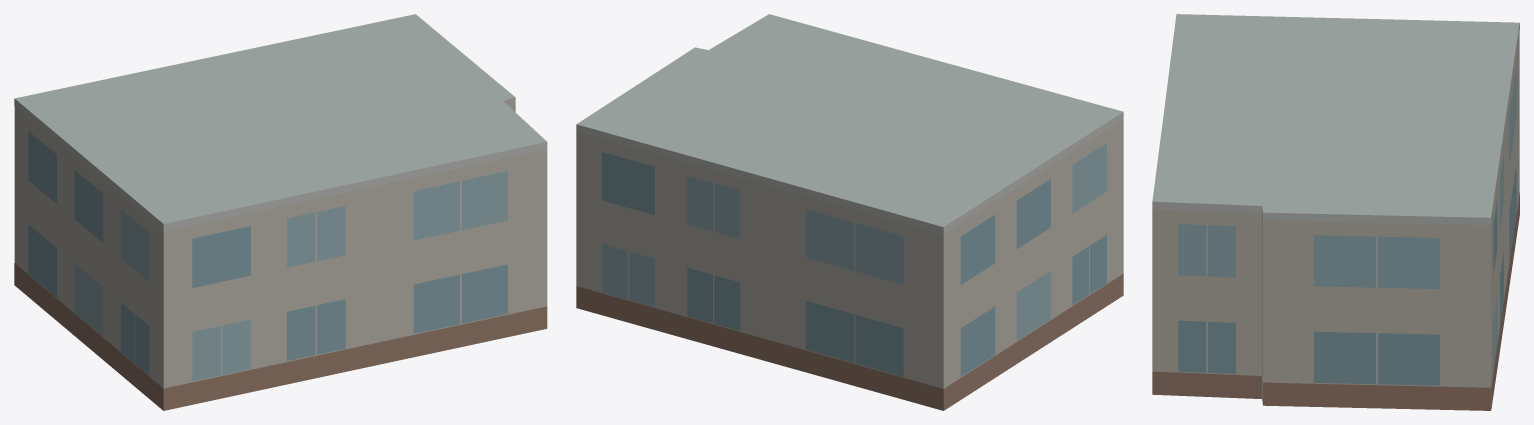
Rendered from survey-upis-32712469.glb.
The picture shows the model from 3 angles, left to right: view 1: azimuth 30°, elevation 25°; view 2: azimuth 150°, elevation 25°; view 3: azimuth 270°, elevation 25°; orthographic projection. The views are drawn at different scales.
Parts seen in each view (by area): view 1: survey-upis-32712469.tmp; view 2: survey-upis-32712469.tmp; view 3: survey-upis-32712469.tmp.
Boxes of the visible parts, bbox=[...] form: survey-upis-32712469.tmp: bbox=[14, 14, 547, 410]; survey-upis-32712469.tmp: bbox=[576, 14, 1123, 410]; survey-upis-32712469.tmp: bbox=[1152, 14, 1519, 410].
Size of the model in its own units: 13.83 by 6.1 by 10.53.
